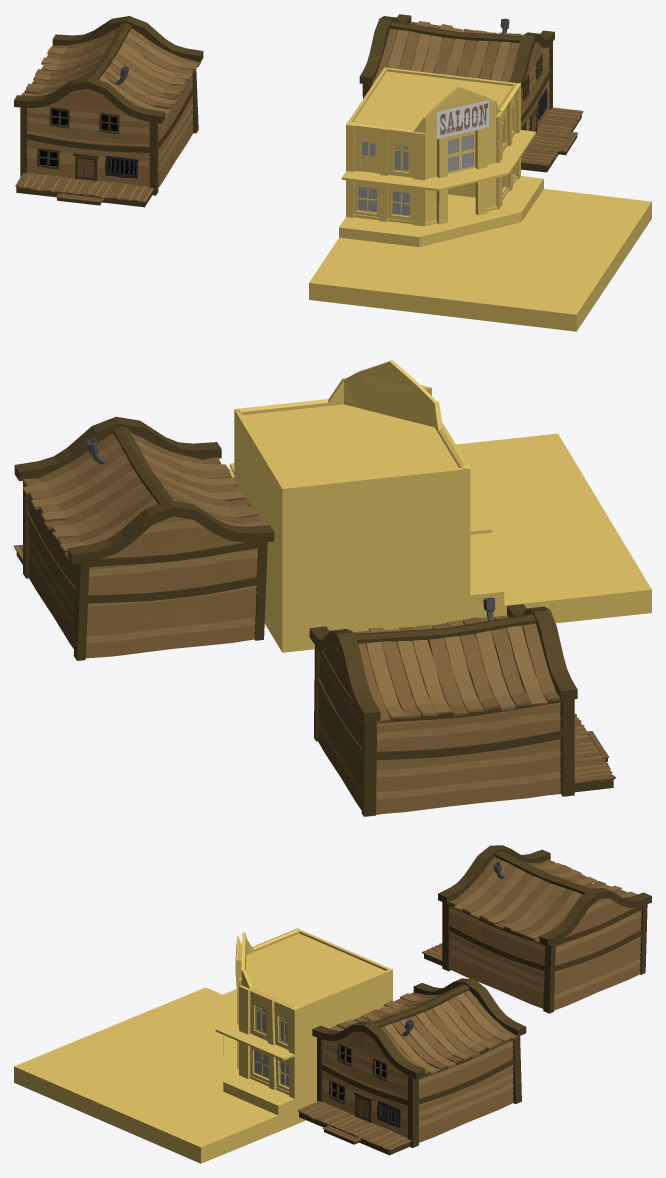
File: WesternAssets 1.fbx
3 views of the same model, one above another, from view 1: azimuth 30°, elevation 25°; view 2: azimuth 150°, elevation 25°; view 3: azimuth 270°, elevation 25° (orthographic). The views are drawn at different scales.
Parts seen in each view (by area): view 1: Walls, Cube.008, Cube.010, sign; view 2: Walls, Cube.008, Cube.010; view 3: Walls, Cube.010, Cube.008.
Boxes of the visible parts, x1,y1,x2,y2 form: Walls: [309, 67, 651, 331]; Cube.008: [14, 16, 203, 207]; Cube.010: [359, 14, 583, 172]; sign: [437, 100, 488, 138]; Walls: [229, 360, 651, 652]; Cube.008: [309, 597, 616, 816]; Cube.010: [14, 416, 274, 660]; Walls: [14, 928, 392, 1163]; Cube.010: [297, 978, 526, 1155]; Cube.008: [422, 845, 651, 1013].
Bounding box in the file's own units: 3497 × 1040 × 3981.
